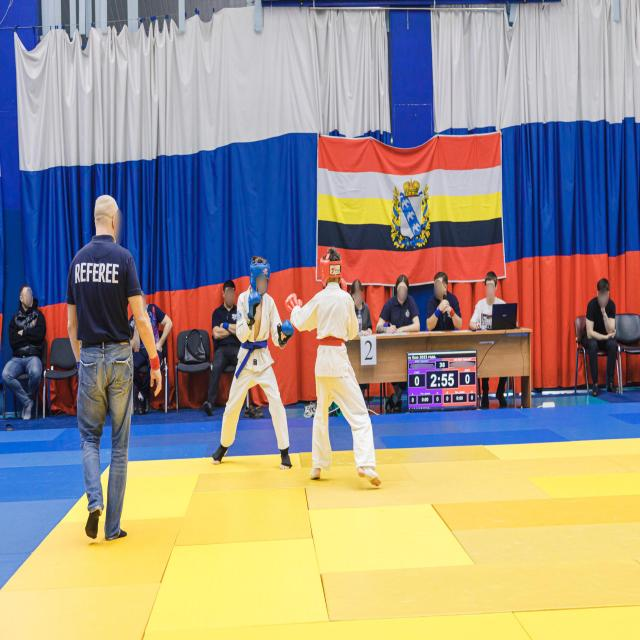Person: (77, 179, 146, 554), (229, 251, 289, 486), (315, 241, 355, 492), (5, 279, 53, 440), (204, 278, 246, 424), (581, 270, 624, 397), (468, 265, 516, 341), (381, 271, 428, 340), (426, 264, 463, 338), (346, 276, 374, 341)
